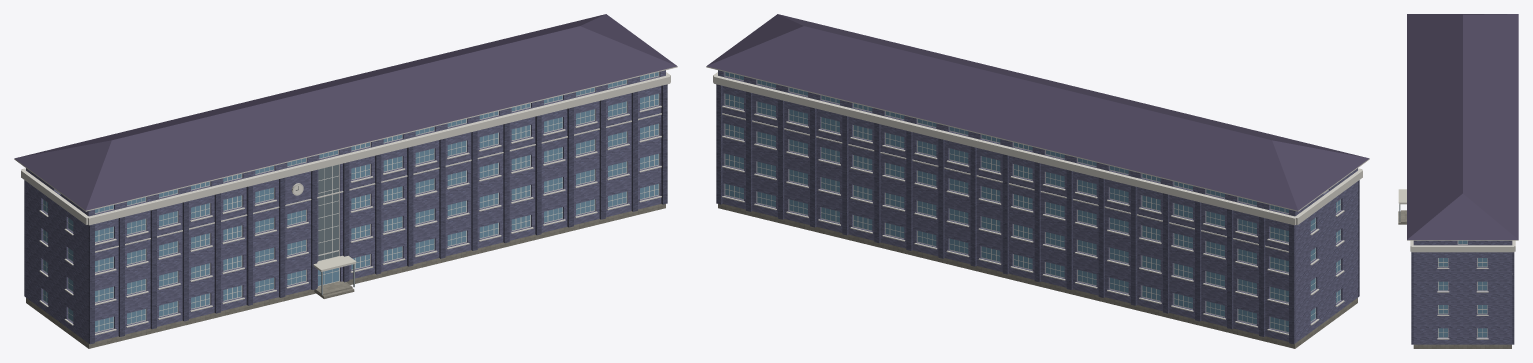
The picture shows the model from 3 angles, left to right: view 1: azimuth 30°, elevation 25°; view 2: azimuth 150°, elevation 25°; view 3: azimuth 270°, elevation 25°; orthographic projection. The views are drawn at different scales.
Visible parts, largest first — view 1: main__brick, main__roof, main__glass, main__pier, main__white, main__frame, main__stone, main__darkglass; view 2: main__brick, main__roof, main__sideglass, main__pier, main__white, main__frame, main__stone; view 3: main__roof, main__brick, main__white, main__sideglass, main__pier, main__stone, main__frame, main__cap.
Boxes of the visible parts, x1,y1,x2,y2 form: main__brick: (26,70,665,342); main__roof: (14,14,677,210); main__glass: (95,72,658,332); main__pier: (24,84,667,344); main__white: (14,66,677,335); main__frame: (43,72,659,332); main__stone: (26,204,665,348); main__darkglass: (318,164,338,260); main__brick: (718,70,1357,342); main__roof: (706,14,1369,210); main__sideglass: (725,72,1340,332); main__pier: (716,84,1359,344); main__white: (706,66,1369,335); main__frame: (724,72,1340,332); main__stone: (718,204,1357,348); main__roof: (1407,14,1518,239); main__brick: (1413,240,1512,344); main__white: (1399,203,1518,339); main__sideglass: (1438,240,1487,337); main__pier: (1411,252,1514,344); main__stone: (1413,344,1511,348); main__frame: (1438,241,1487,337); main__cap: (1398,189,1406,203).
Bounding box in the file's own units: 72.2 × 20.08 × 16.29.
Materials: 14 (4 with a texture image).
